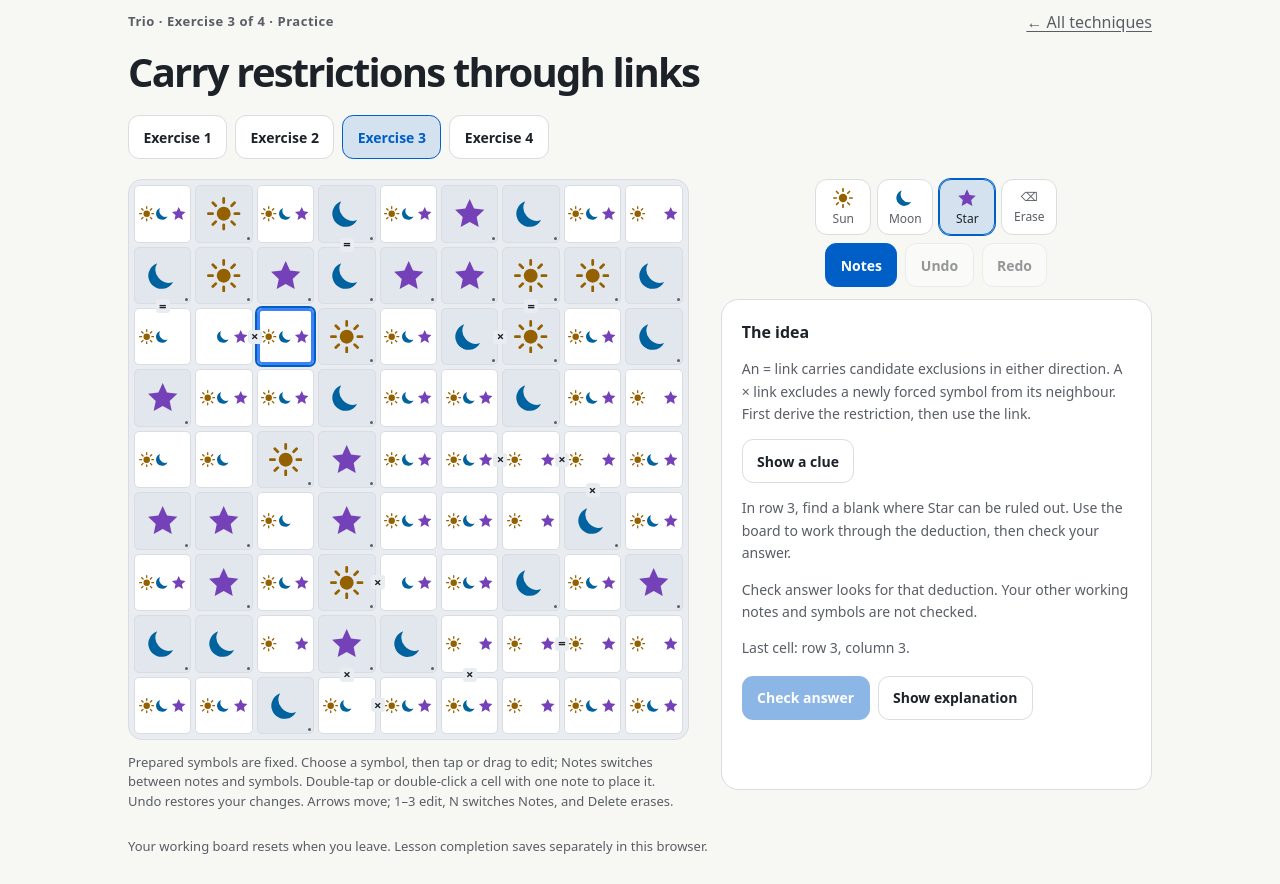
Test: shows the named candidate removal on the board before checking trio-relation-propagation-3
Press 3 in the cell named "Row 3, column 3, Empty, notes Sun, Moon, Star; different fro", box [257,308,314,365]
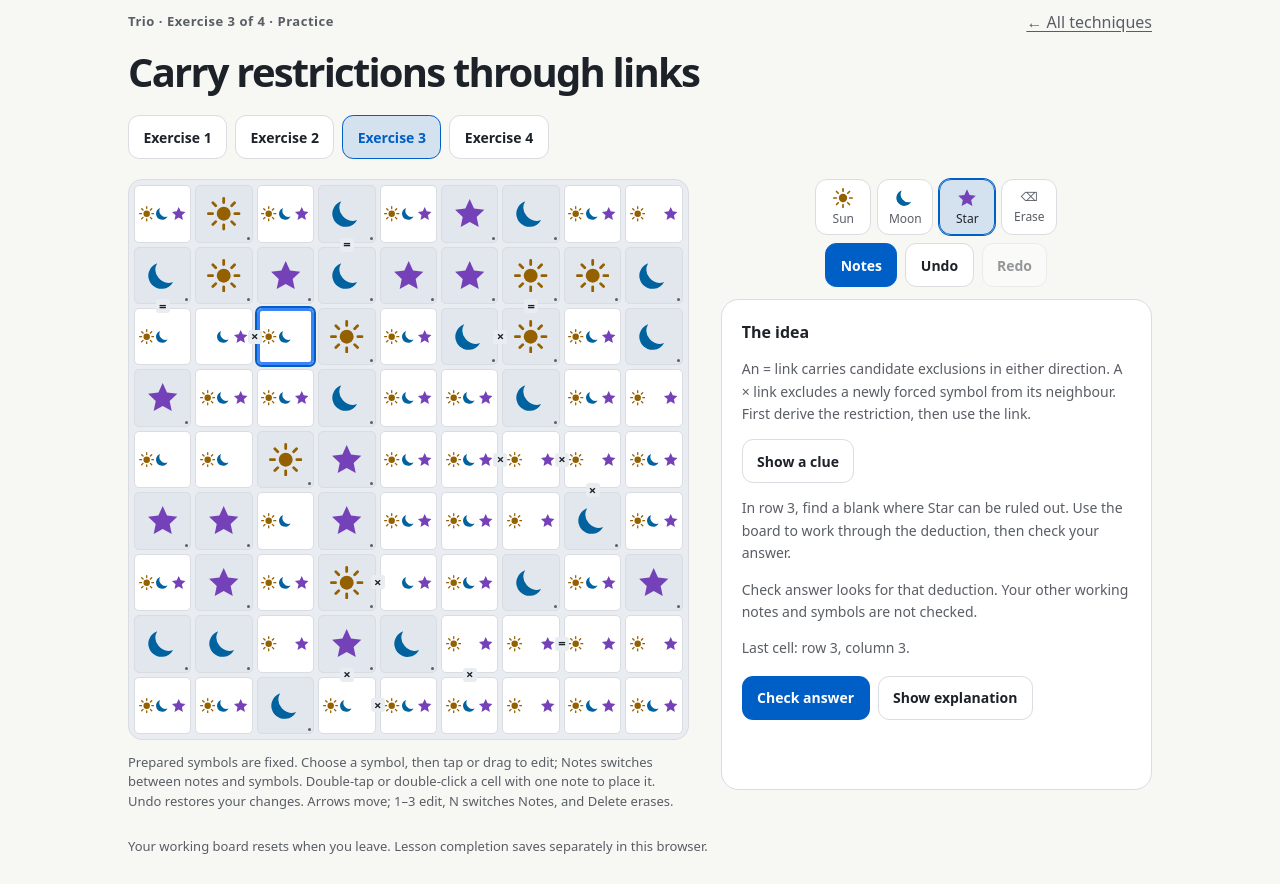
Click the button "Check answer" at (806, 698), box [742,676,870,720]
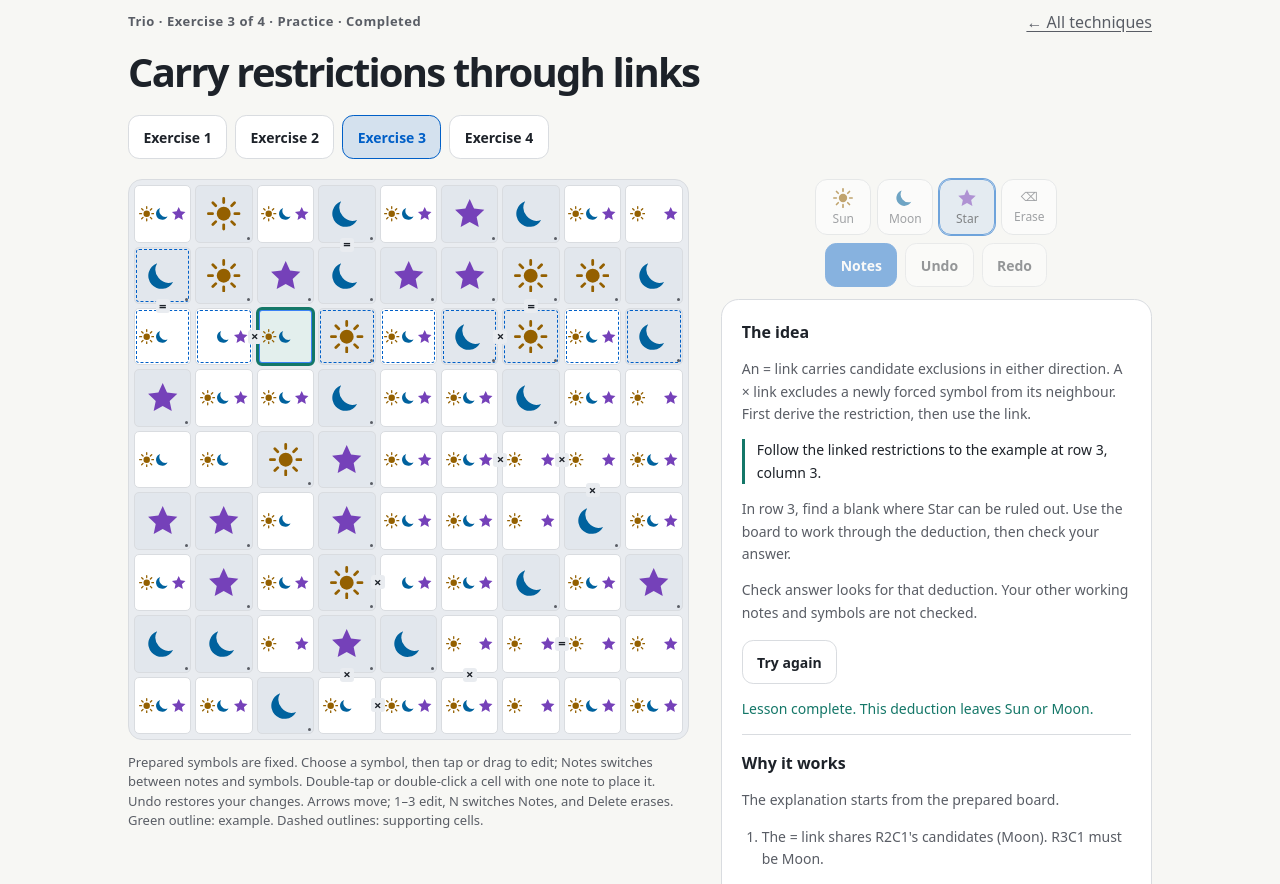
Expected: the message "Lesson complete. This deduction leaves Sun or Moon." is shown, [742,698,1131,720]
Expected: the number of list items is 3
